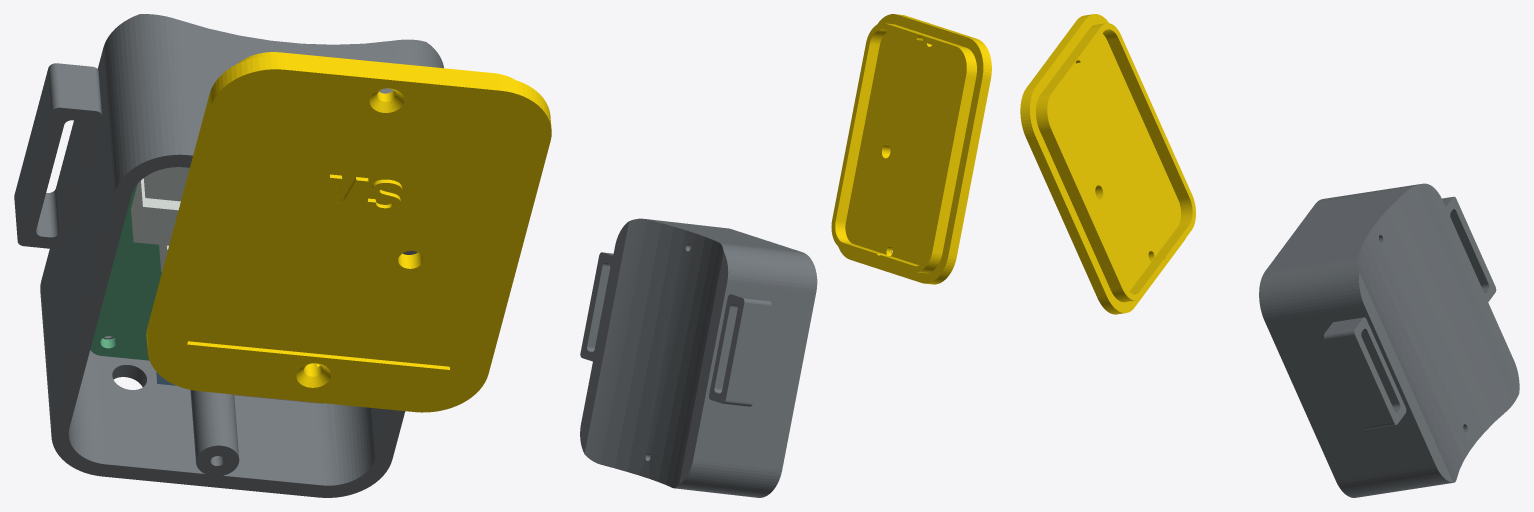
Rendered from pod_boot.glb.
The picture shows the model from 3 angles, left to right: view 1: azimuth 30°, elevation 25°; view 2: azimuth 150°, elevation 25°; view 3: azimuth 270°, elevation 25°; orthographic projection. The views are drawn at different scales.
Parts seen in each view (by area): view 1: boot_lid, boot_base, boot_pcb, boot_parts; view 2: boot_base, boot_lid; view 3: boot_base, boot_lid.
Boxes of the visible parts, x1=… form: boot_lid: x1=146, y1=52, x2=551, y2=412; boot_base: x1=14, y1=14, x2=443, y2=497; boot_pcb: x1=90, y1=184, x2=161, y2=360; boot_parts: x1=131, y1=167, x2=189, y2=271; boot_base: x1=580, y1=218, x2=817, y2=497; boot_lid: x1=831, y1=14, x2=991, y2=284; boot_base: x1=1259, y1=183, x2=1519, y2=497; boot_lid: x1=1020, y1=14, x2=1195, y2=314.
Bounding box in the file's own units: 72.69 × 96.26 × 110.
